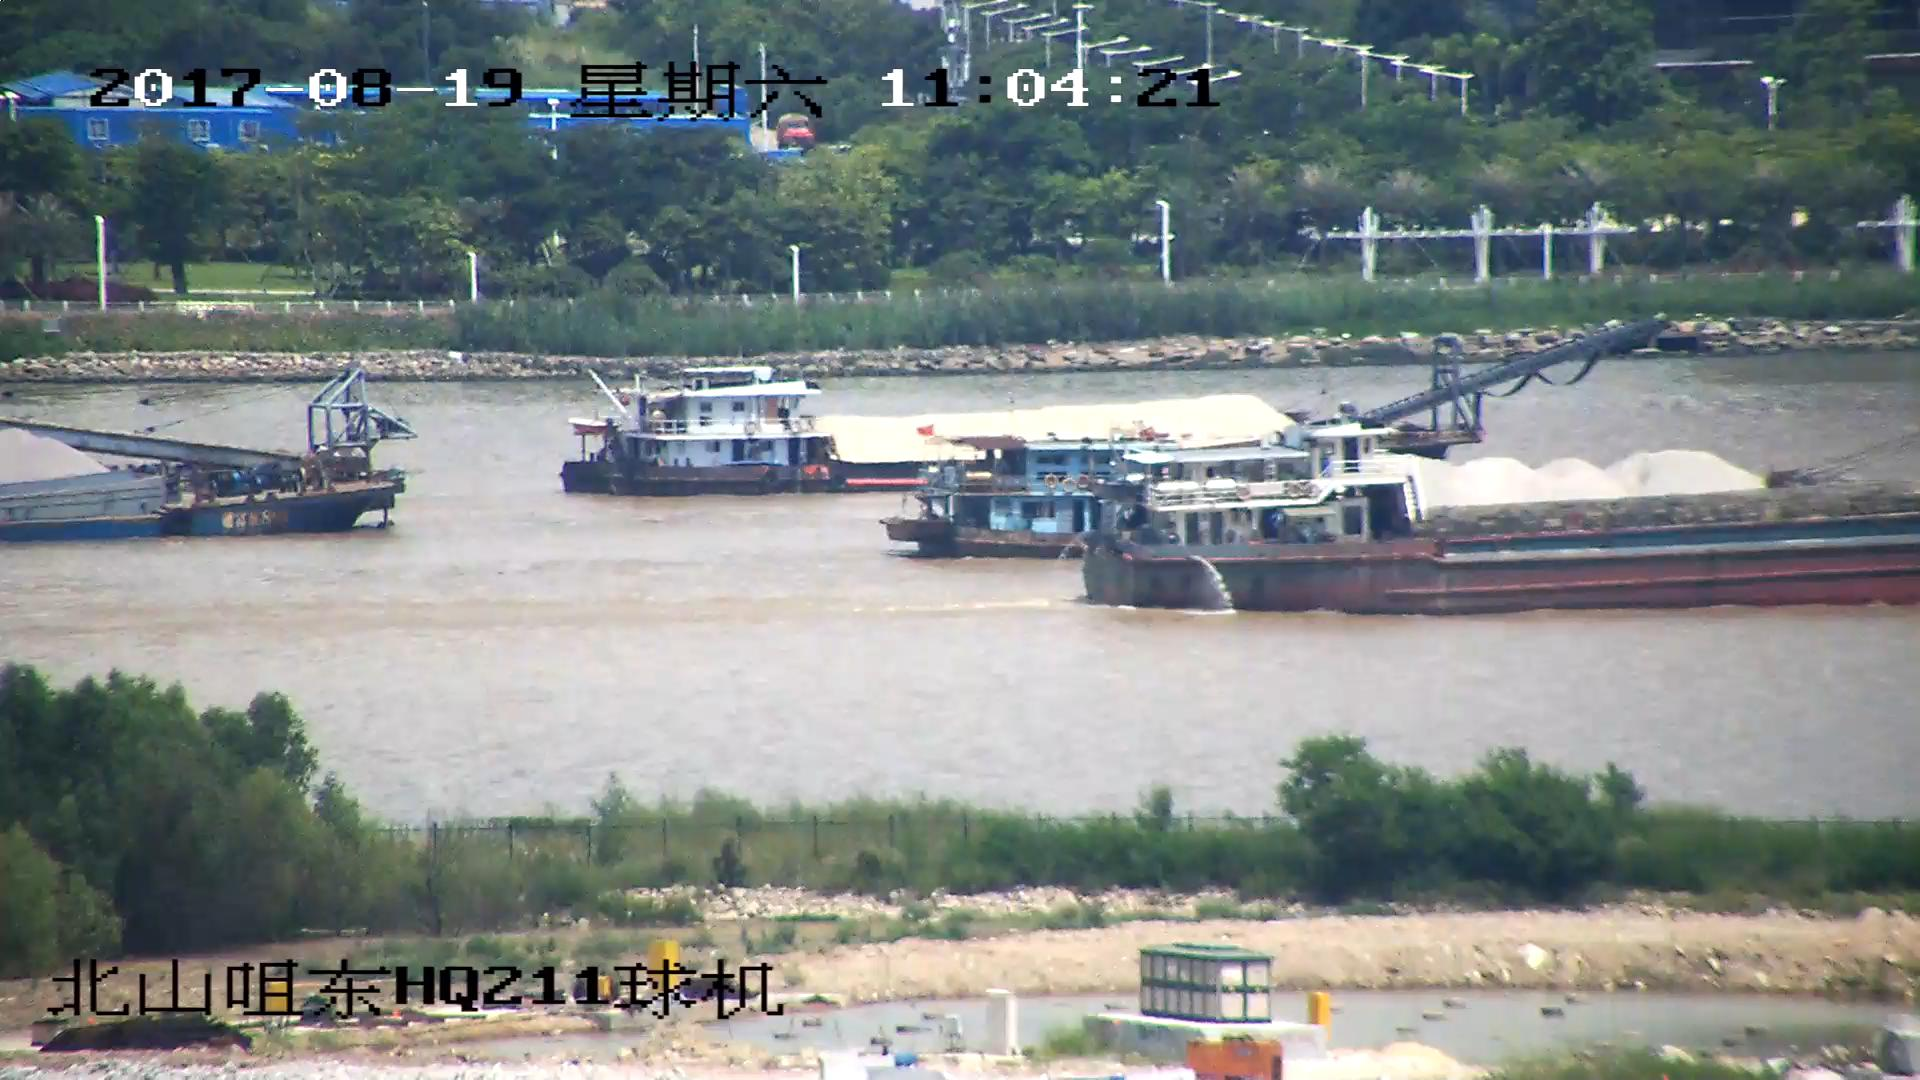bulk cargo carrier: (1095, 457, 1920, 618)
ore carrier: (566, 318, 1649, 499), (890, 440, 1919, 567), (1, 379, 413, 537)
